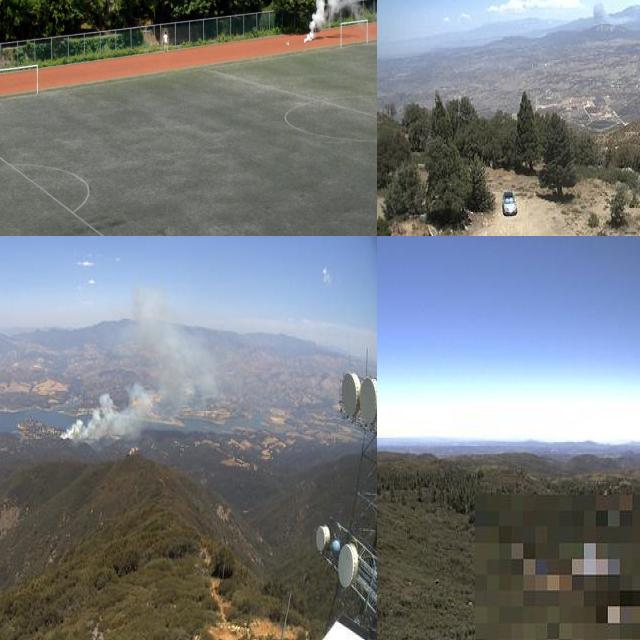smoke: (57, 287, 221, 455), (302, 0, 361, 42), (574, 0, 633, 30), (373, 2, 377, 22)
